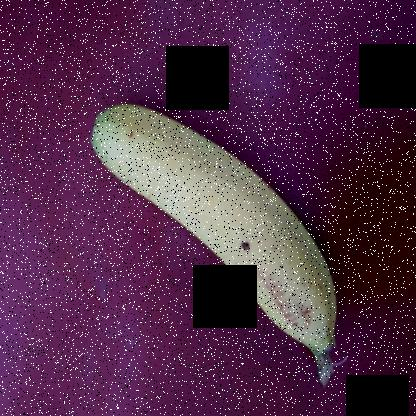freshripe: (86, 100, 341, 351)
